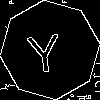Y: (25, 25, 63, 74)
